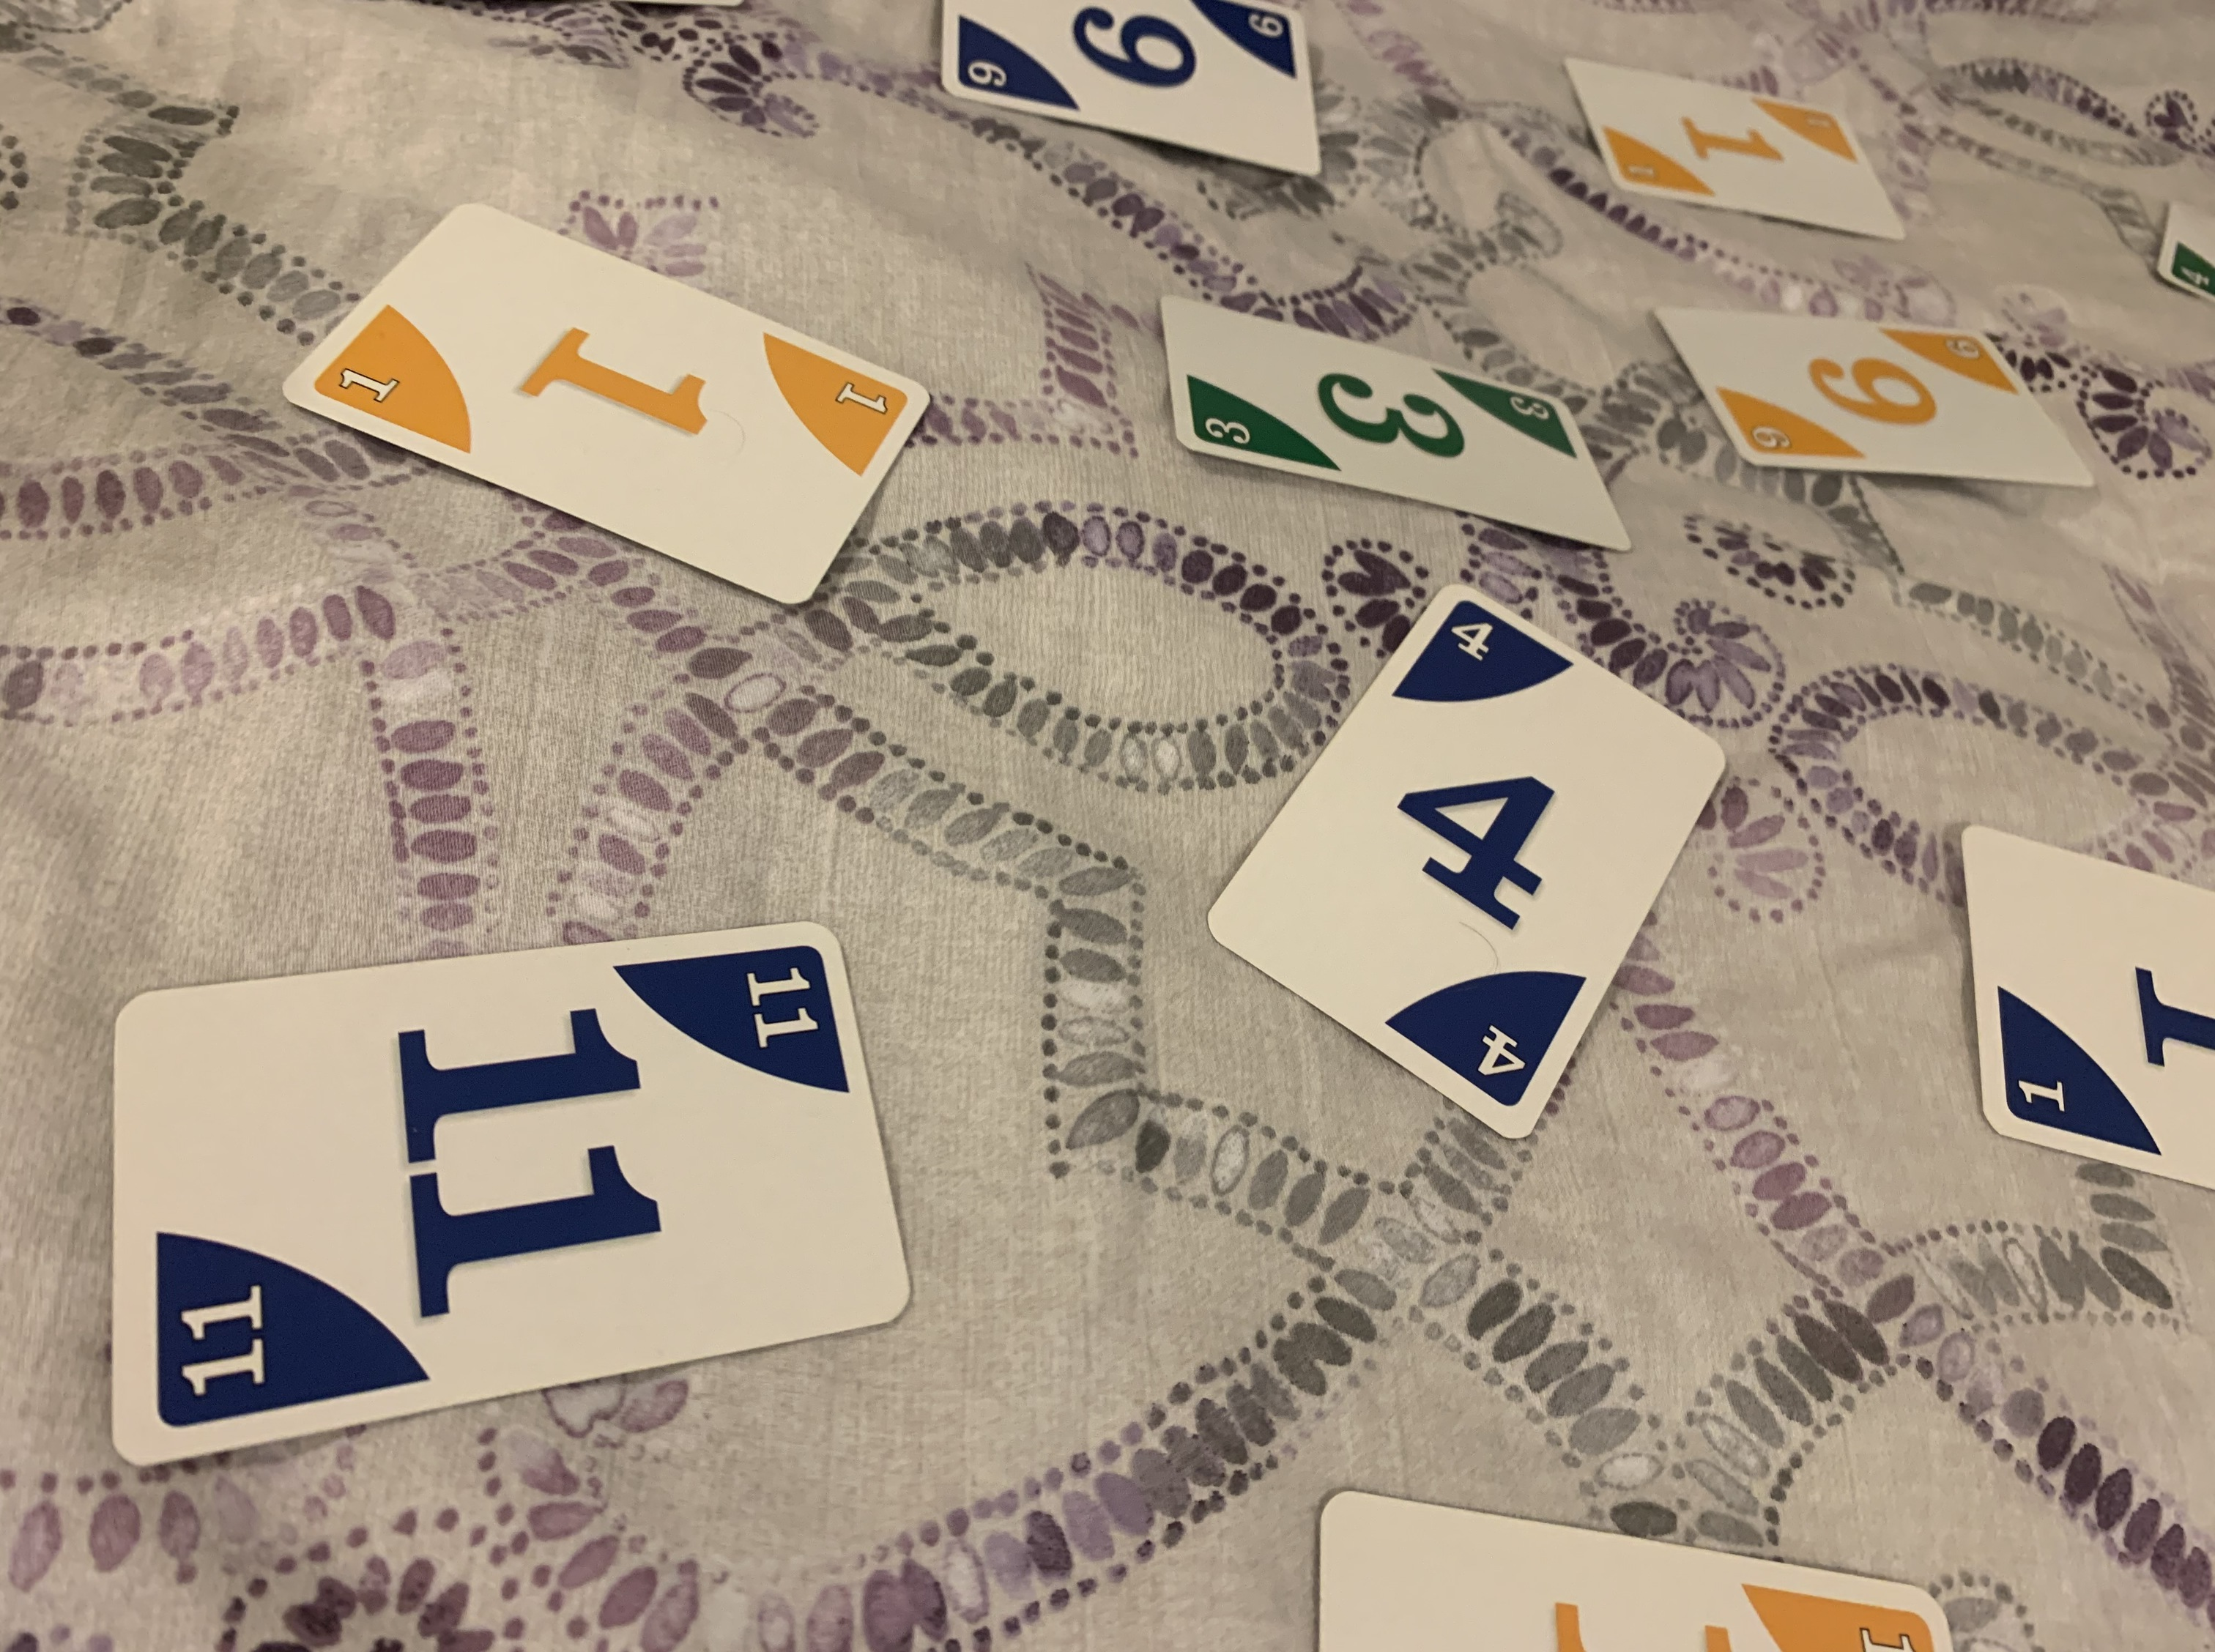eleven: (108, 915, 922, 1477)
four: (1182, 574, 1738, 1138)
nine: (1646, 300, 2100, 489)
one: (283, 191, 936, 616)
three: (1158, 279, 1633, 554)
